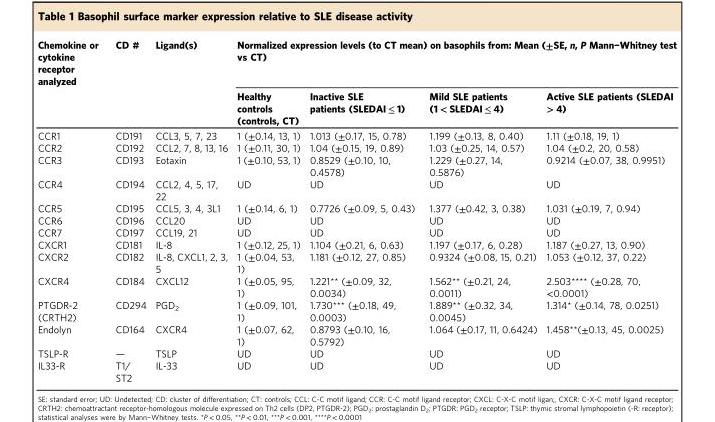table: (36, 37, 675, 382)
table column: (541, 37, 675, 382), (421, 37, 541, 382), (304, 37, 421, 382), (150, 37, 231, 382), (231, 37, 304, 382), (36, 37, 106, 382), (106, 37, 150, 382)
table column header: (36, 37, 675, 127)
table row: (36, 37, 675, 88), (36, 88, 675, 127), (36, 273, 675, 298), (36, 153, 675, 177), (36, 177, 675, 201), (36, 249, 675, 273), (36, 298, 675, 322), (36, 322, 675, 346), (36, 358, 675, 382), (36, 127, 675, 140), (36, 140, 675, 153), (36, 201, 675, 213), (36, 213, 675, 225), (36, 225, 675, 237), (36, 237, 675, 249), (36, 346, 675, 358)
table spanning cell: (231, 37, 675, 88), (150, 37, 231, 127), (36, 37, 106, 127), (106, 37, 150, 127)
